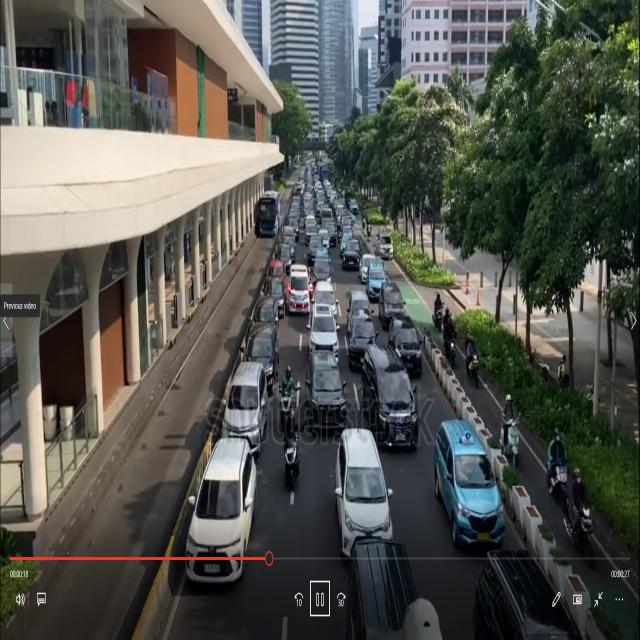Ambulance: (288, 260, 313, 326)
